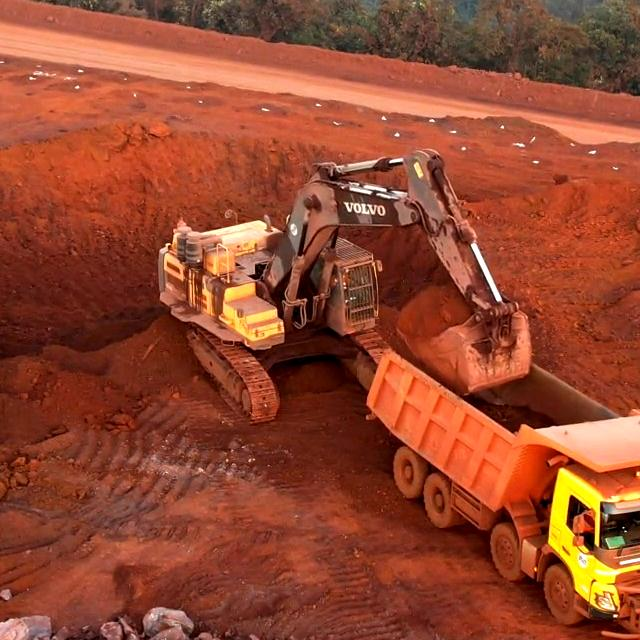Dumper truck: (484, 423, 640, 580)
Excavator: (183, 216, 381, 362)
